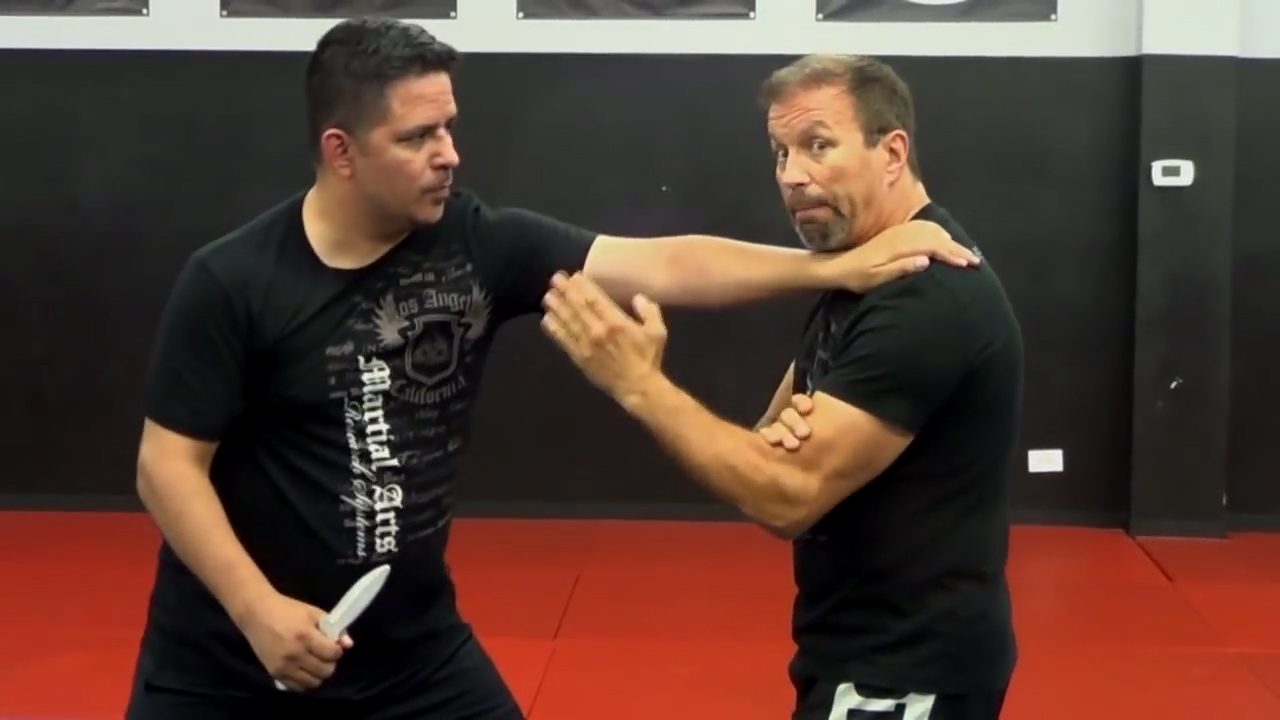knife: (270, 555, 399, 696)
